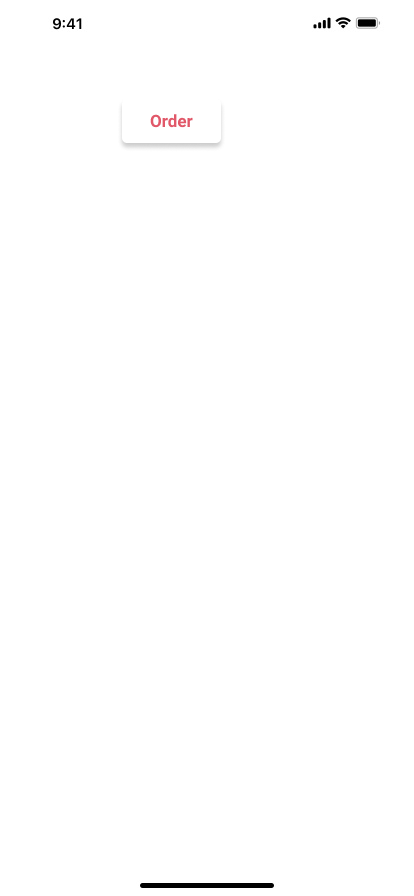Buttons: (117, 98, 226, 152)
Home Indicator: (0, 862, 414, 896)
Status Bar: (0, 0, 414, 44)
